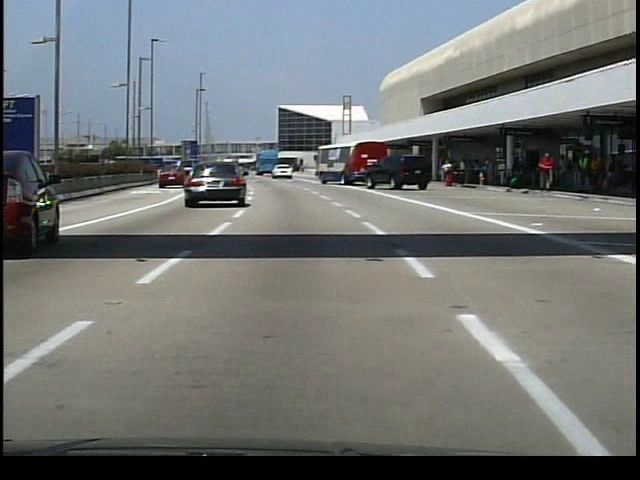person: (532, 149, 557, 193), (602, 156, 619, 193), (576, 151, 589, 191), (441, 158, 456, 188)
